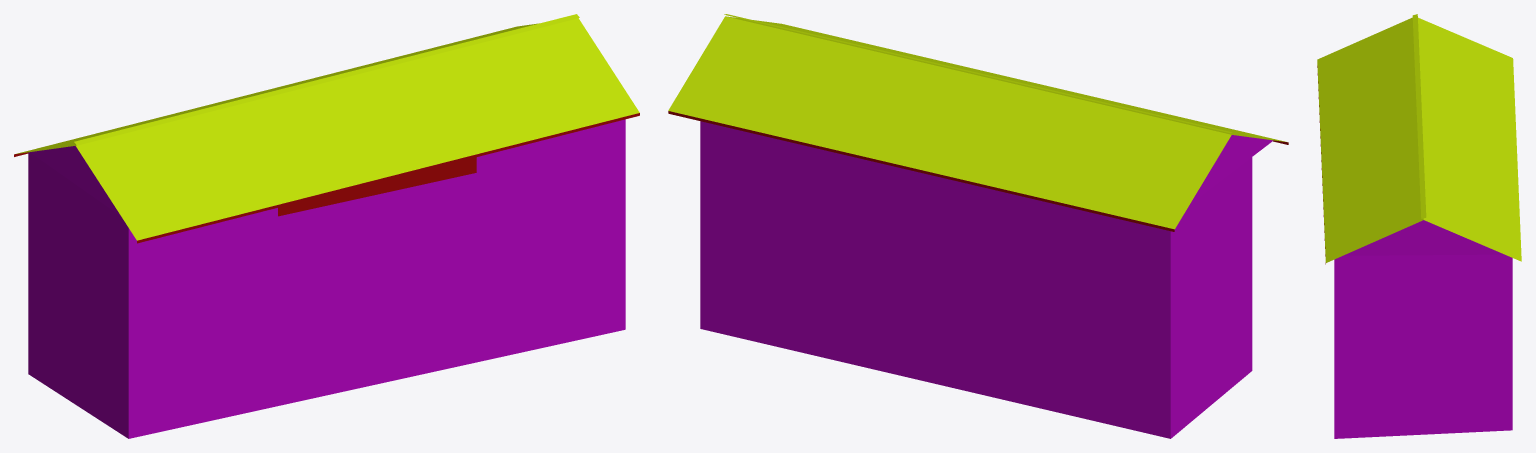
3 renders of one model, left to right at view 1: azimuth 30°, elevation 25°; view 2: azimuth 150°, elevation 25°; view 3: azimuth 270°, elevation 25°, orthographic. The views are drawn at different scales.
Visible parts, largest first — view 1: sc_98; view 2: sc_98; view 3: sc_98.
Part boxes in pixels (<box>): sc_98: <box>14,14,639,438</box>; sc_98: <box>668,14,1288,438</box>; sc_98: <box>1317,14,1521,438</box>.
Bounding box in the file's own units: 22.69 × 11.56 × 9.56.
